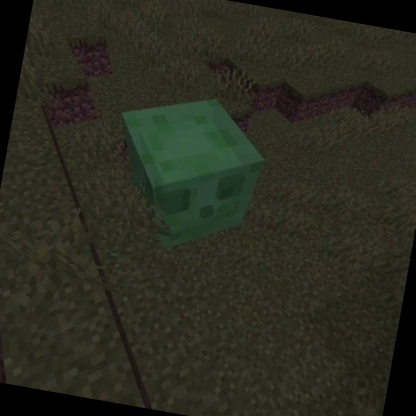slime: (96, 79, 278, 267)
